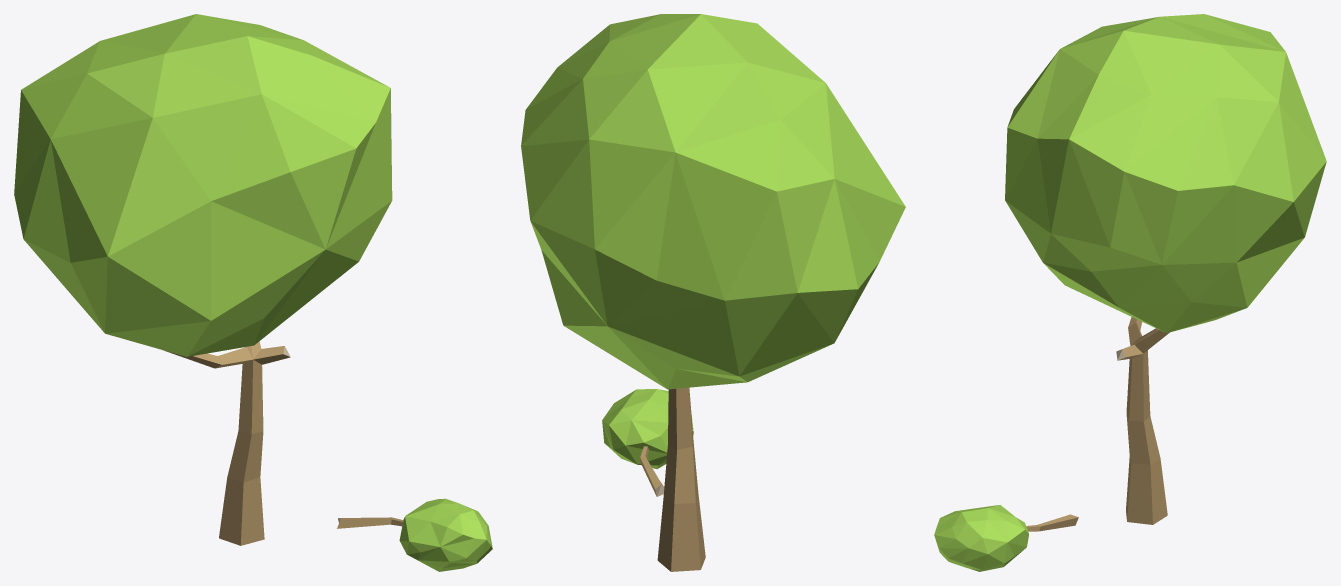
File: Apple_Tree_crk_m_02.fbx
The picture shows the model from 3 angles, left to right: view 1: azimuth 30°, elevation 25°; view 2: azimuth 150°, elevation 25°; view 3: azimuth 270°, elevation 25°; orthographic projection. The views are drawn at different scales.
Visible parts, largest first — view 1: Apple_Tree_crk_m_02; view 2: Apple_Tree_crk_m_02; view 3: Apple_Tree_crk_m_02.
Part boxes in pixels (x1,y1,x2,y2): Apple_Tree_crk_m_02: (14,14,492,571); Apple_Tree_crk_m_02: (521,14,905,571); Apple_Tree_crk_m_02: (934,14,1326,571).
Size of the model in its own units: 476 by 668 by 492.
